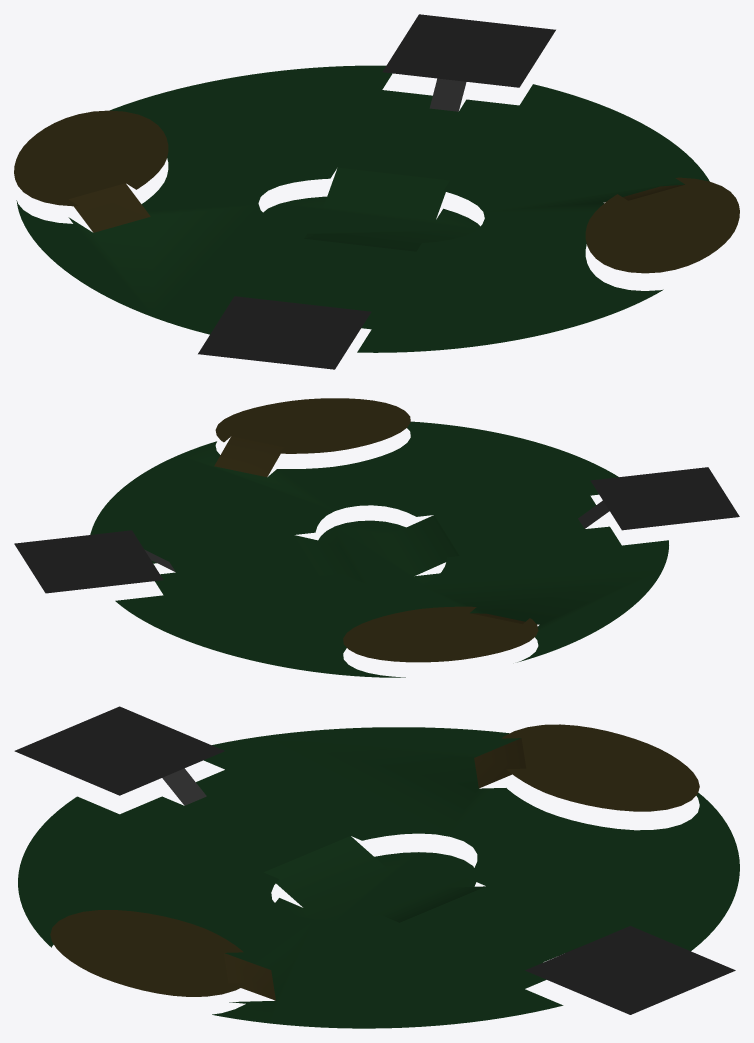
Rendered from Map2NavMesh.fbx.
3 views of the same model, one above another, from view 1: azimuth 30°, elevation 25°; view 2: azimuth 150°, elevation 25°; view 3: azimuth 270°, elevation 25° (orthographic). The views are drawn at different scales.
Parts seen in each view (by area): view 1: NavMesh.003; view 2: NavMesh.003; view 3: NavMesh.003.
Part boxes in pixels (x1=…): NavMesh.003: x1=14, y1=14, x2=739, y2=369; NavMesh.003: x1=14, y1=398, x2=739, y2=677; NavMesh.003: x1=14, y1=706, x2=739, y2=1028.
Bounding box in the file's own units: 42.71 × 2.4 × 42.45.
